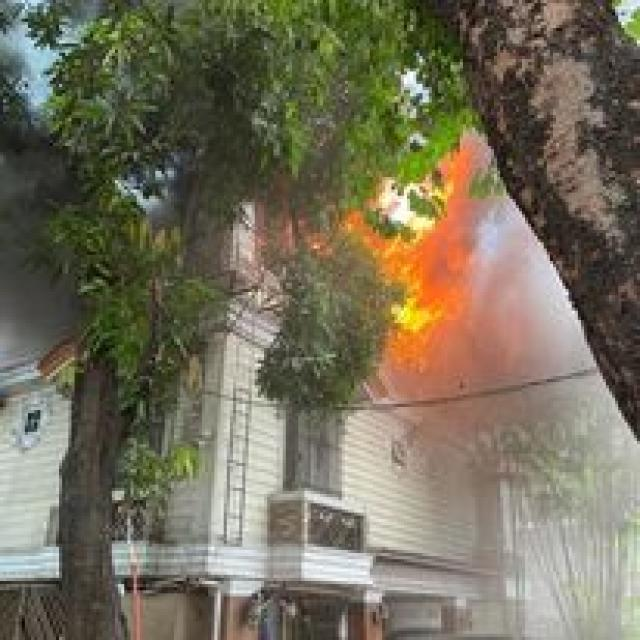Fire: (393, 234, 481, 362), (441, 151, 476, 274)
Smoke: (456, 280, 628, 548)
